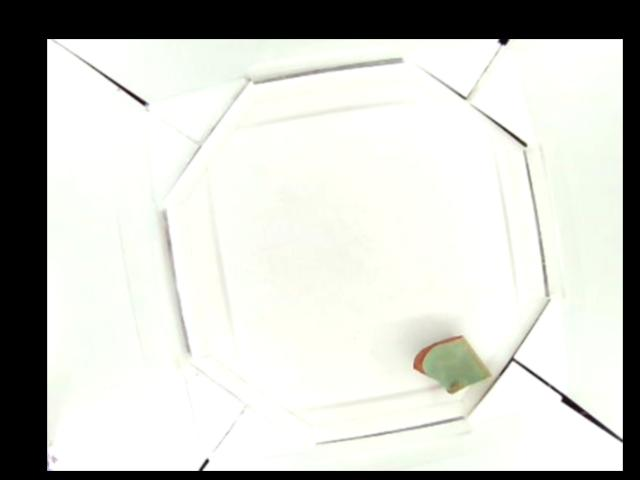China: (411, 334, 494, 392)
